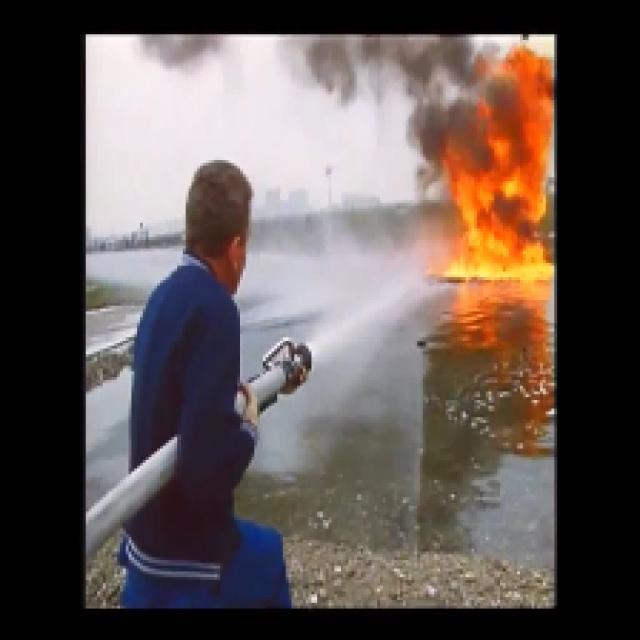fire: (457, 156, 540, 287), (496, 63, 554, 154)
smoke: (408, 103, 483, 152)
